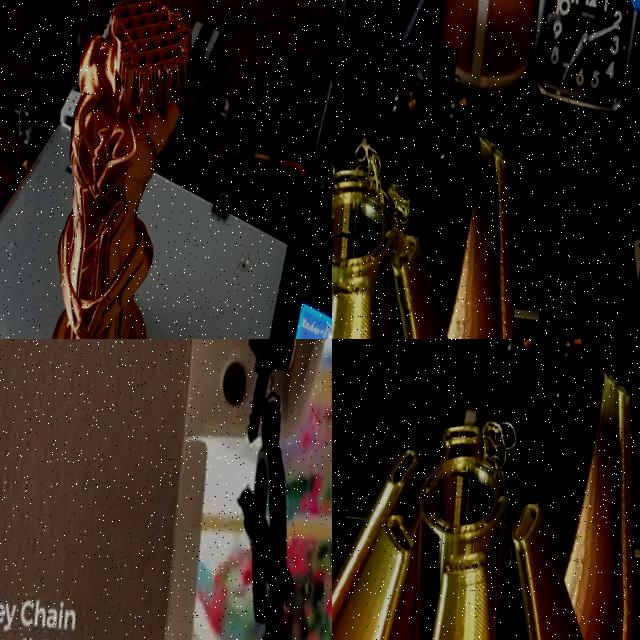spaghetti: (332, 128, 422, 249), (470, 402, 520, 469), (499, 530, 516, 576)
